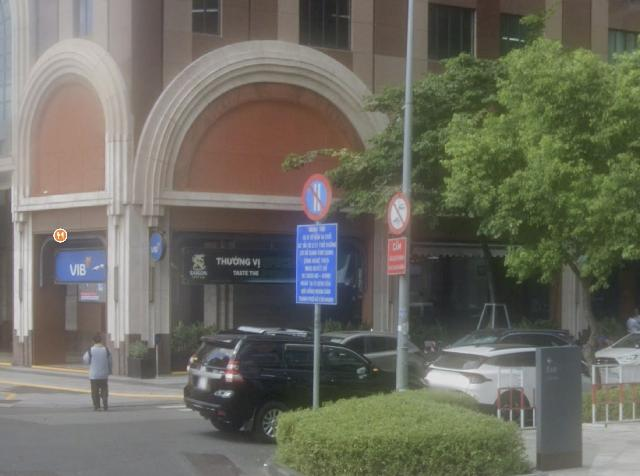131c-cam-do-xe-ngay-chan: (301, 174, 333, 221)
